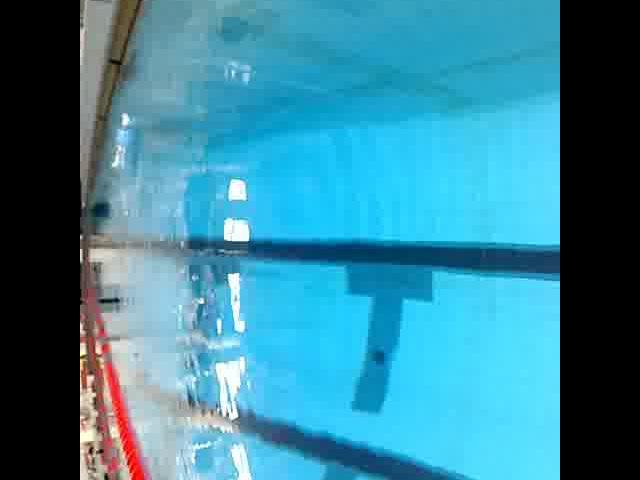Bottle: (106, 106, 140, 178)
